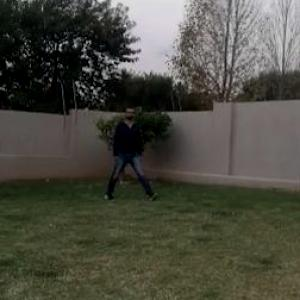follow: (113, 94, 139, 200)
